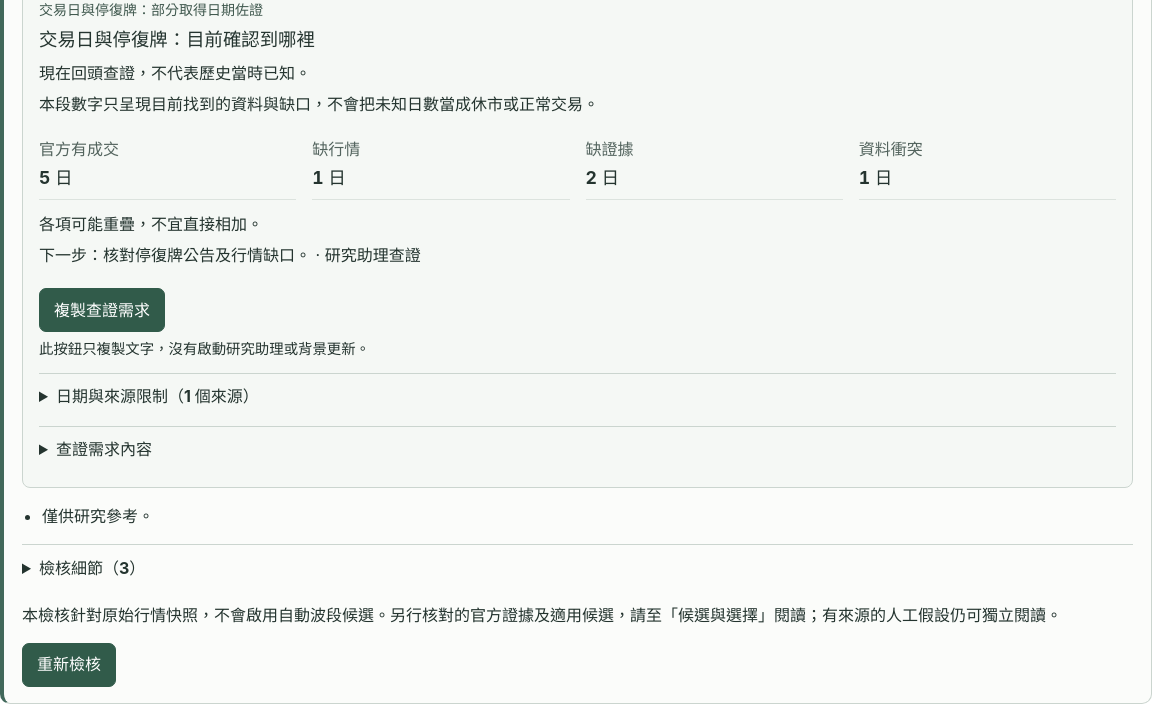
Test: renders retrospective session counts and plain-text source limitations with a selectable copy request
(page scrolled)
Expected: the heading "交易日與停復牌：目前確認到哪裡" is shown, [39,28,315,50]
Expected: the text "現在回頭查證，不代表歷史當時已知。" is shown, [39,62,311,82]
Click the heading "日期與來源限制（1 個來源）".
click(157, 396)  # box [56,386,259,406]
(page scrolled)
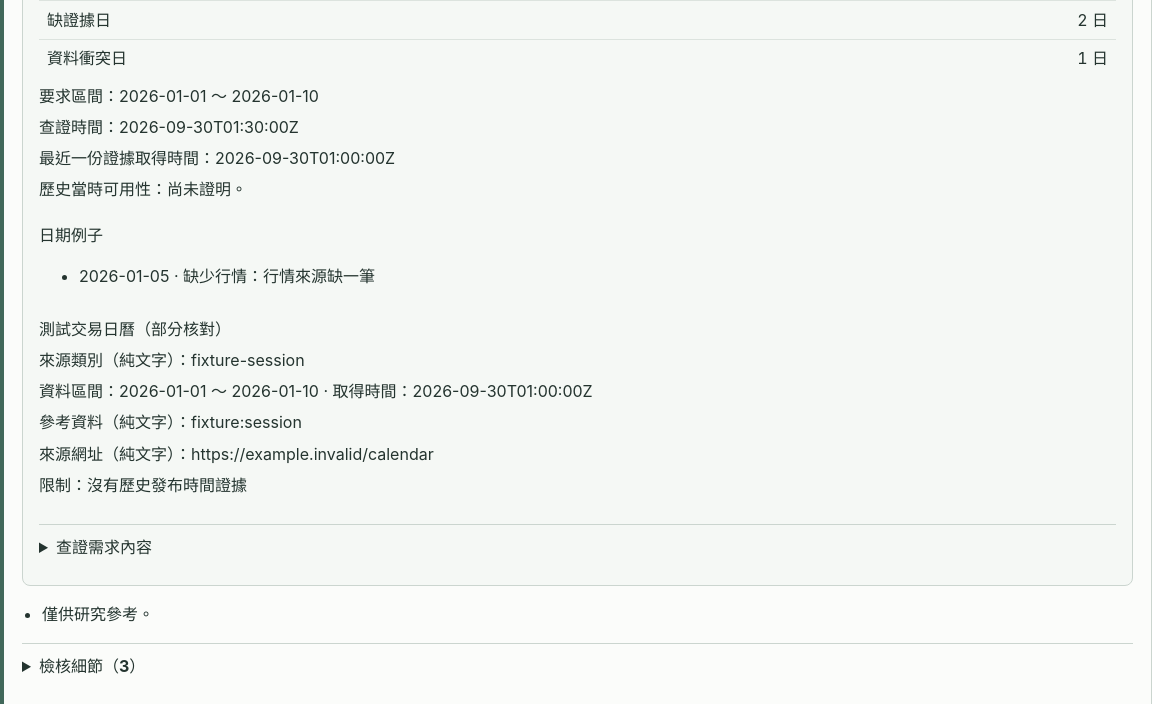
Now the text "最近一份證據取得時間：2026-09-30T01:00:00Z" is shown, box [39,148,395,168]
Now the text "歷史當時可用性：尚未證明。" is shown, box [39,179,247,199]
Now the heading "日期例子" is shown, box [39,225,103,245]
